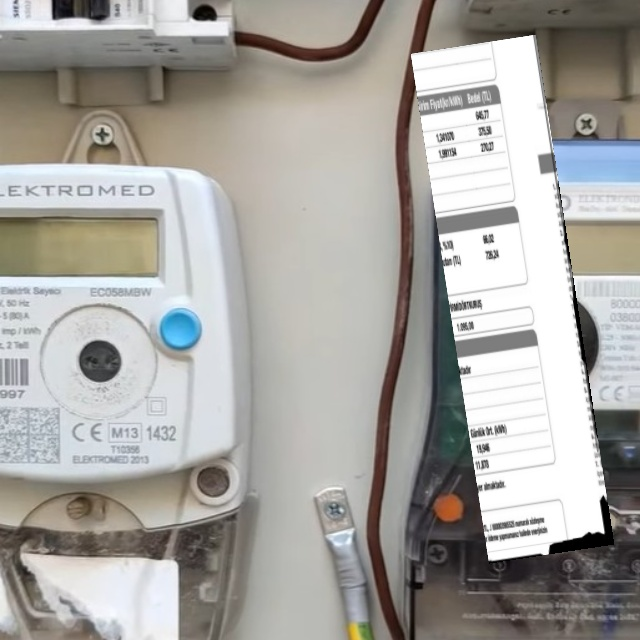electricity-bill: (410, 34, 614, 563)
